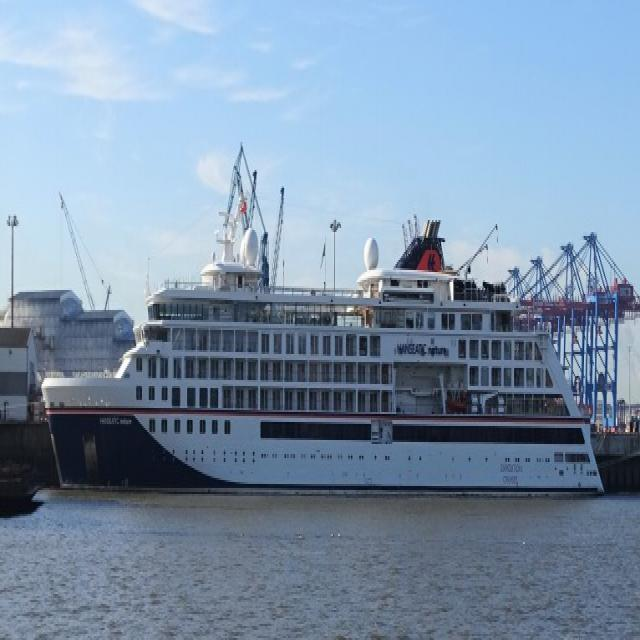cruises: (38, 185, 614, 513)
